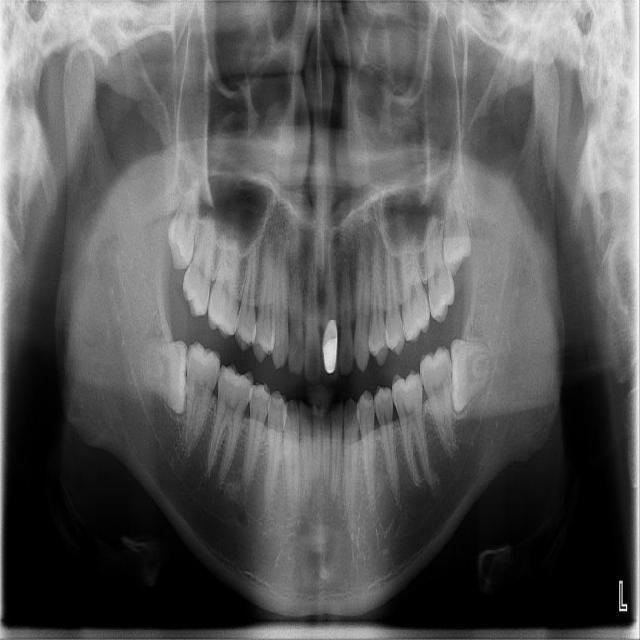3M ESPE Implant: (161, 161, 207, 273)
52: (319, 319, 342, 385)
73: (602, 550, 603, 572)
BioHorizons Implant: (420, 193, 458, 325)
BioLife Implant: (438, 150, 473, 276)
Biomet 3i Implant: (449, 339, 492, 414)
Blue Sky Bio Implant: (418, 345, 456, 460)
Caries: (179, 179, 223, 319)
Implant: (182, 339, 223, 454)
Keystone Dental Implant: (138, 337, 190, 415)
